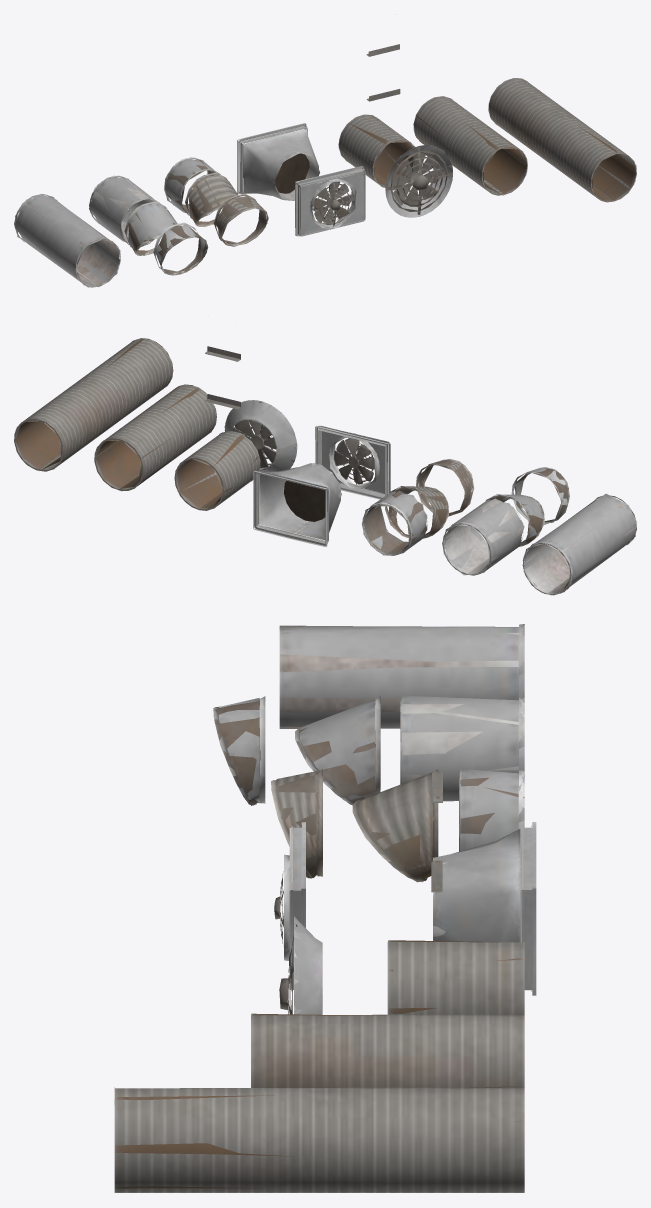
File: ph_modular_airduct_circular_01.glb
3 renders of one model, top to bottom at view 1: azimuth 30°, elevation 25°; view 2: azimuth 150°, elevation 25°; view 3: azimuth 270°, elevation 25°, orthographic. The views are drawn at different scales.
Visible parts, largest first — view 1: modular_airduct_rectangular_vent_fan; view 2: modular_airduct_rectangular_vent_fan; view 3: modular_airduct_rectangular_vent_fan.
Part boxes in pixels (x1,y1,x2,y2): modular_airduct_rectangular_vent_fan: (14,44,636,287); modular_airduct_rectangular_vent_fan: (14,338,636,595); modular_airduct_rectangular_vent_fan: (114,624,536,1192).
Bounding box in the file's own units: 4.17 × 1.32 × 1.46.
Materials: 2 (2 with a texture image).
